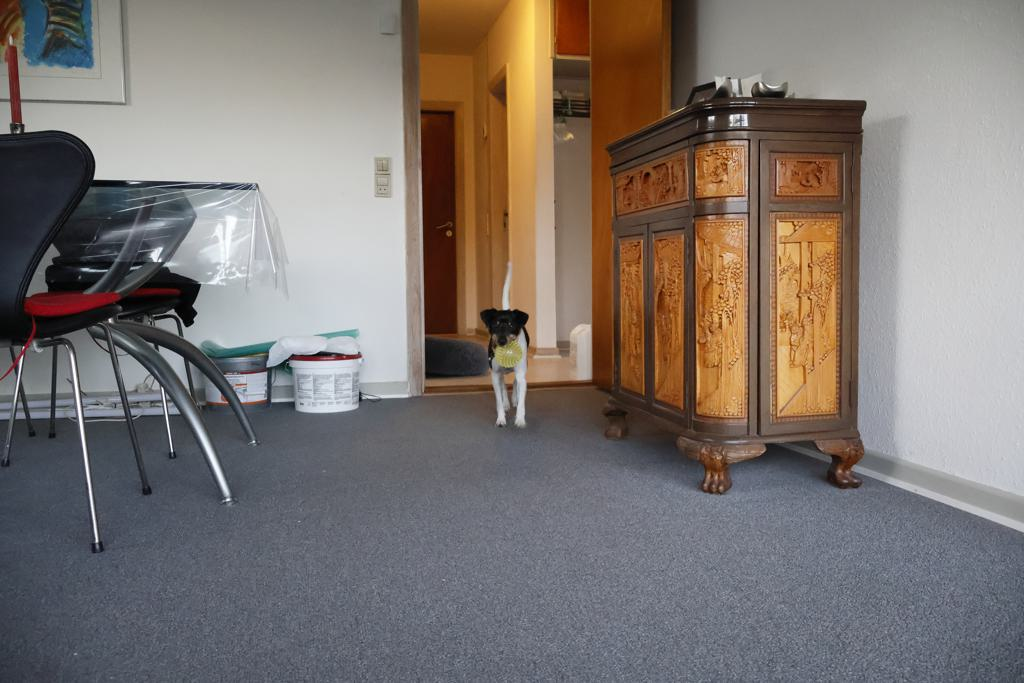Dog: (467, 256, 545, 435)
